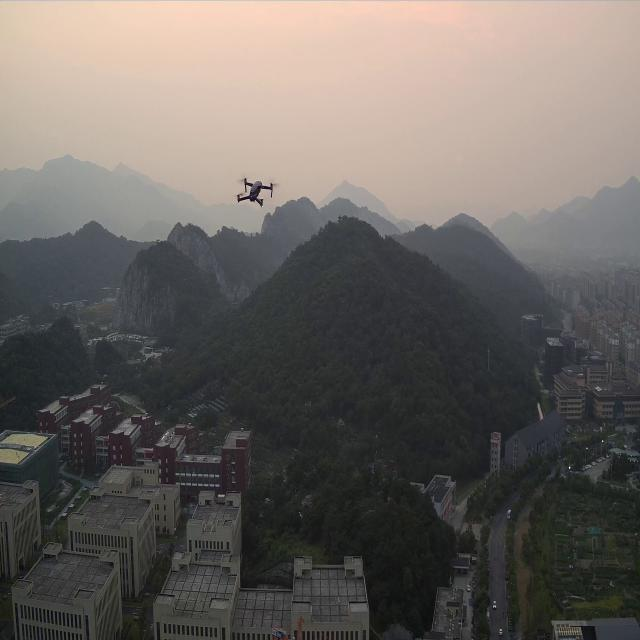UAV: (234, 175, 274, 211)
